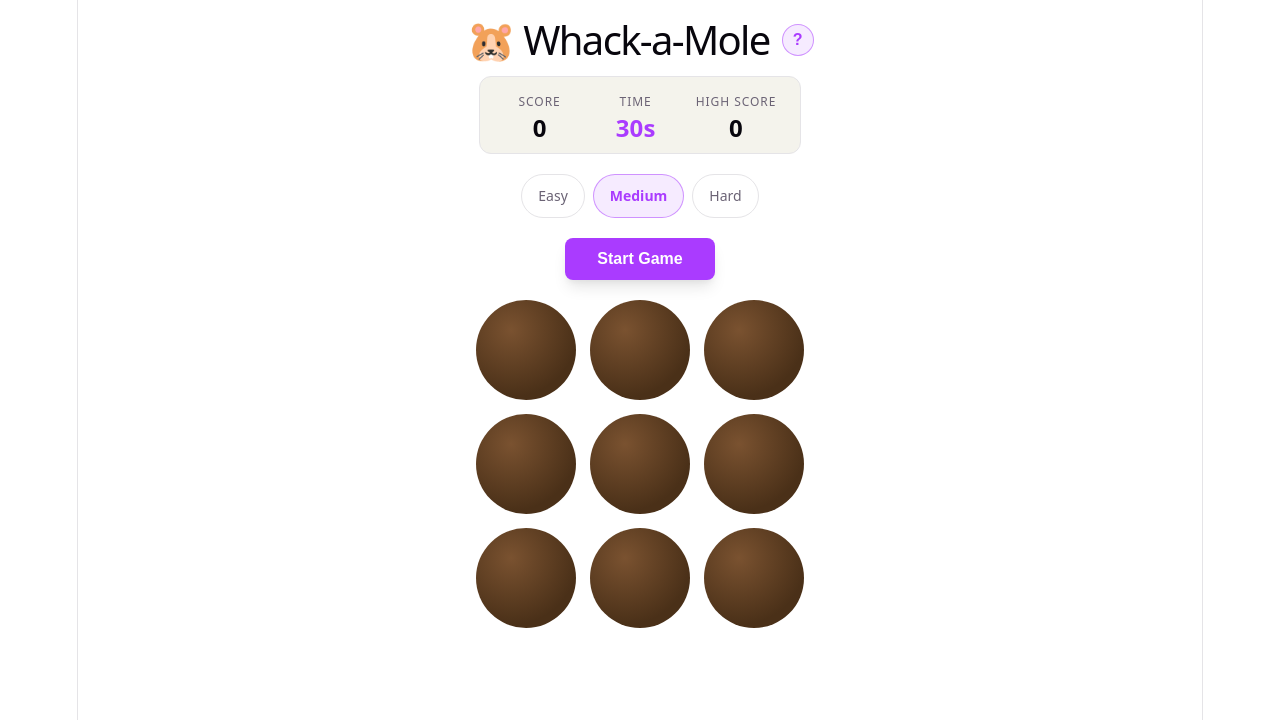
Test: App › persists a new high score and shows the banner at game end
The width and height of the screenshot is (1280, 720).
Click the button "Start Game" at (640, 259), box left=565, top=238, right=715, bottom=280
Wait 1000 ms
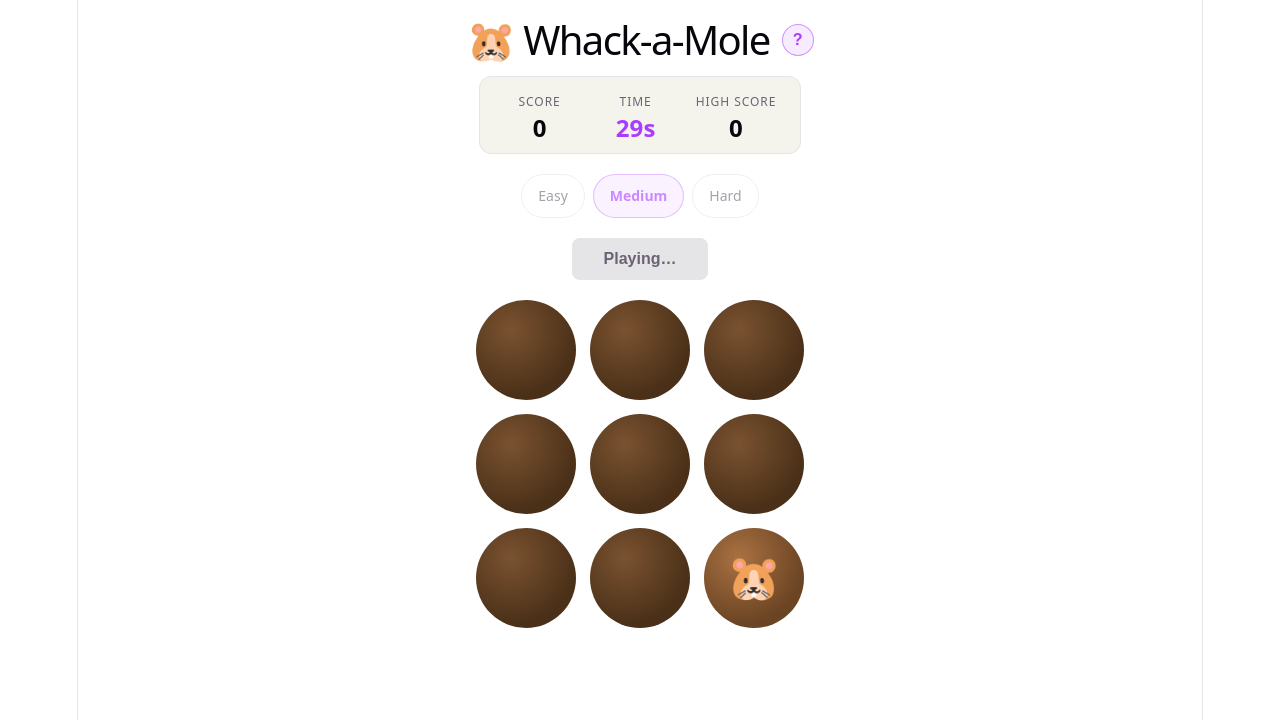
Click the button with class "is-up" at (754, 578), box left=704, top=528, right=804, bottom=628
Wait 30000 ms
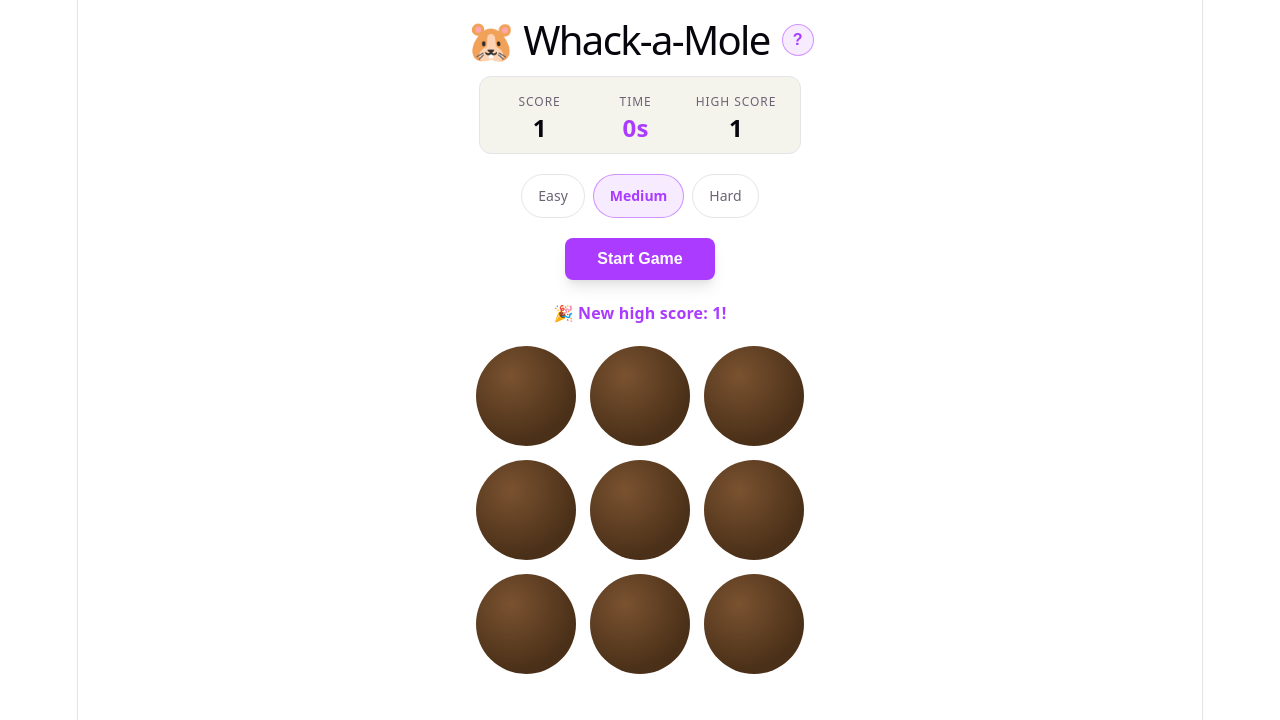
Expected: the text "🎉 New high score: 1!" is shown, left=554, top=300, right=726, bottom=326
Expected: the text with test id "high-score" reads "1", left=729, top=111, right=743, bottom=144
Expected: the button "Start Game" is shown, left=565, top=238, right=715, bottom=280
